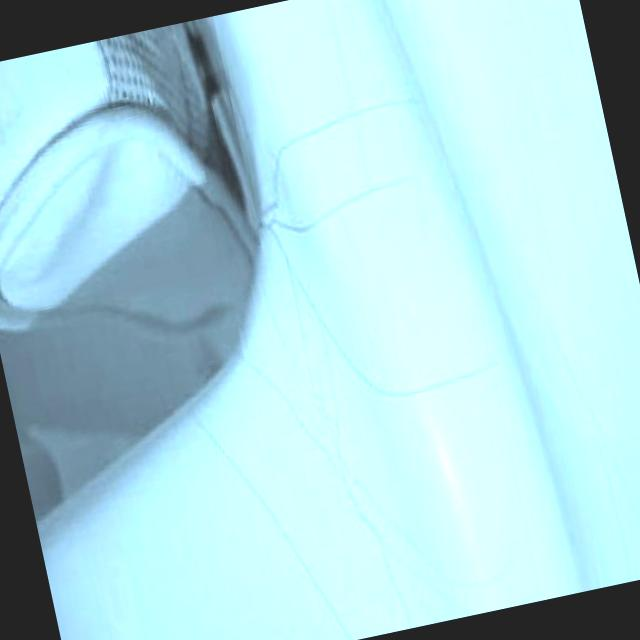crack: (254, 87, 398, 176), (292, 162, 418, 240), (385, 342, 490, 422)
